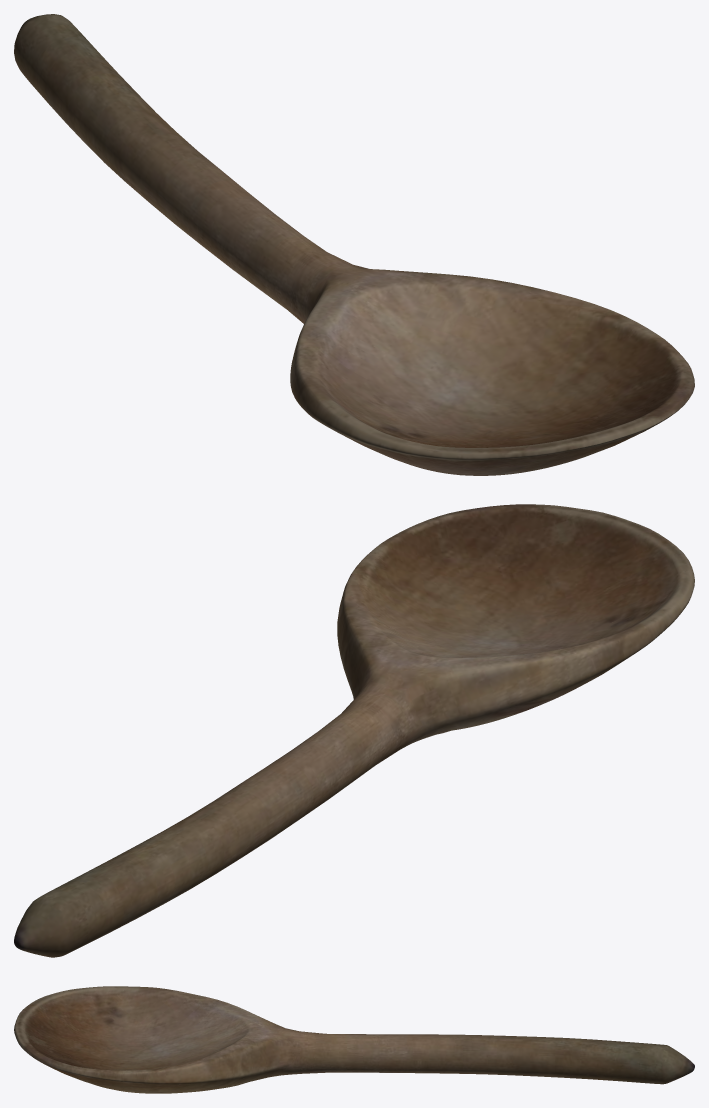
The model's file is wooden_spoon.glb.
3 views of the same model, one above another, from view 1: azimuth 30°, elevation 25°; view 2: azimuth 150°, elevation 25°; view 3: azimuth 270°, elevation 25° (orthographic). The views are drawn at different scales.
Bounding box in the file's own units: 0.0867 × 0.0251 × 0.2776.
Materials: 1 (1 with a texture image).
